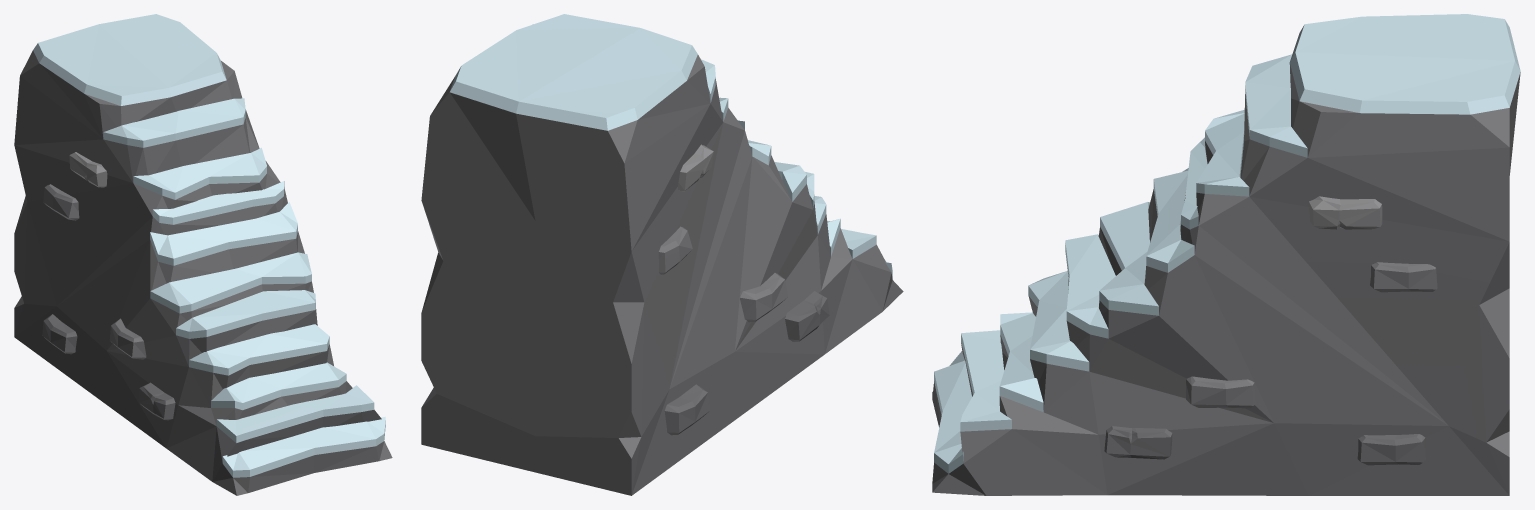
Rendered from SM_Bld_Rockwall_Stairs_01_Snow.gltf.
3 views of the same model, side by side, from view 1: azimuth 30°, elevation 25°; view 2: azimuth 150°, elevation 25°; view 3: azimuth 270°, elevation 25° (orthographic). The views are drawn at different scales.
Parts seen in each view (by area): view 1: SM_Bld_Rockwall_Stairs_01_Snow; view 2: SM_Bld_Rockwall_Stairs_01_Snow; view 3: SM_Bld_Rockwall_Stairs_01_Snow.
Boxes of the visible parts, x1,y1,x2,y2 form: SM_Bld_Rockwall_Stairs_01_Snow: (14,14,392,495); SM_Bld_Rockwall_Stairs_01_Snow: (421,14,903,495); SM_Bld_Rockwall_Stairs_01_Snow: (932,14,1520,495).
Size of the model in its own units: 1.8 by 2.82 by 3.91.
1 material, 1 textured.
